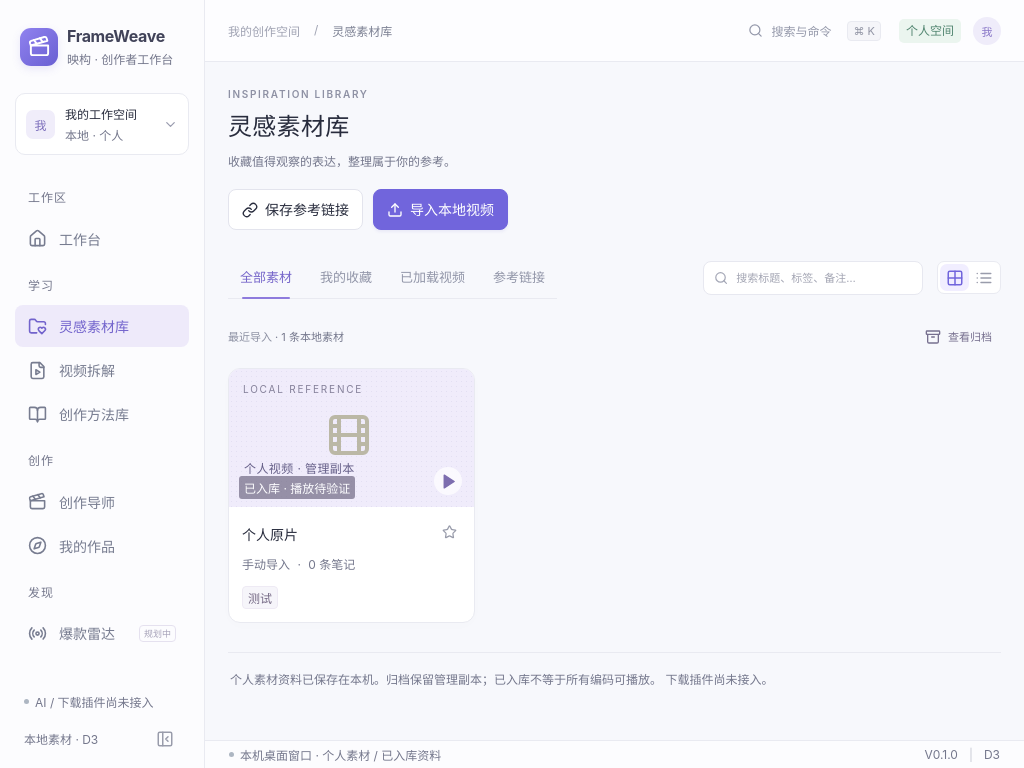
it: D3个人素材接线（组件证据，不是原生UI或SQLite证据） › 收藏失败不伪装成功，不更新个人数据
Click the button named "收藏：个人原片" at (450,532), box [438,520,461,543]
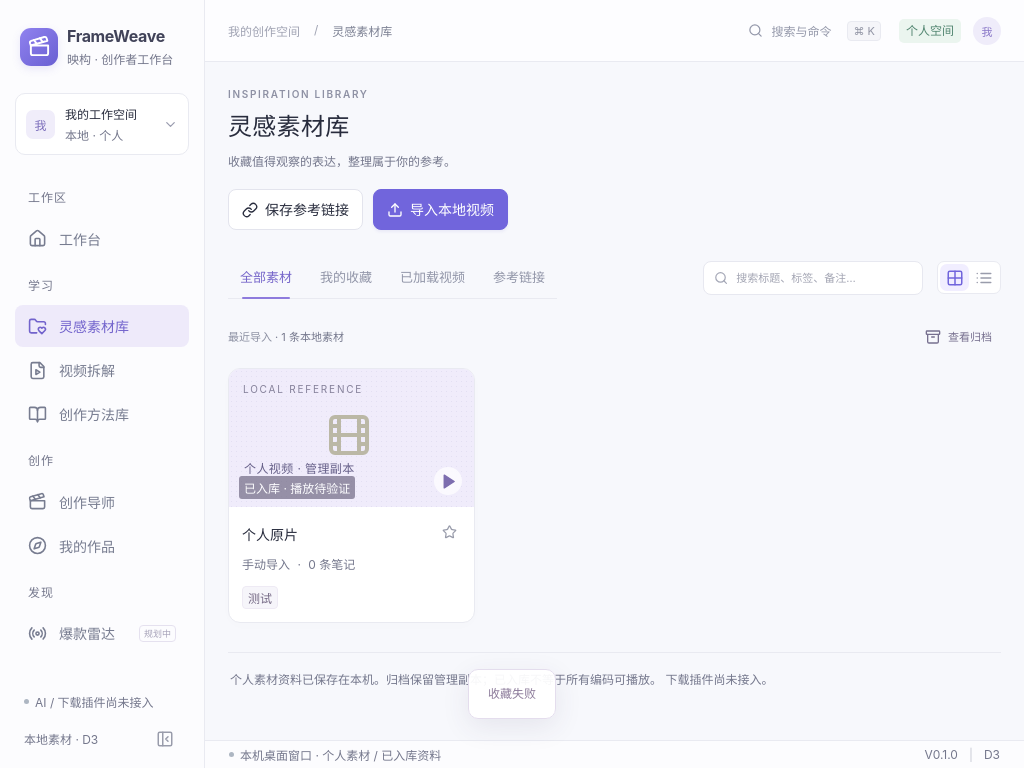
Result: the text "收藏失败" is shown at [468,669,556,719]
